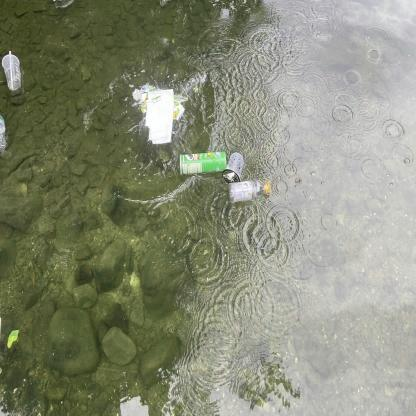Metal: (173, 147, 231, 180)
Plastic: (225, 180, 277, 210), (0, 43, 27, 96), (220, 148, 249, 184), (0, 108, 12, 154)
Trash: (128, 81, 188, 149)
